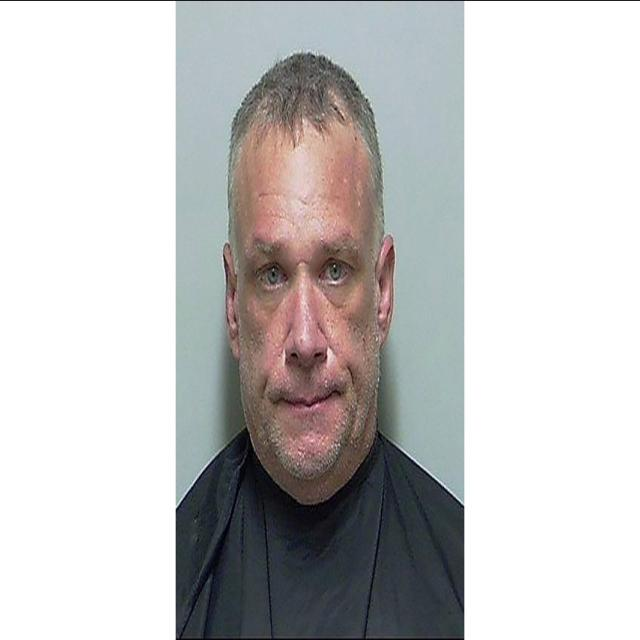mobile_phonerotation: (176, 48, 464, 636)
